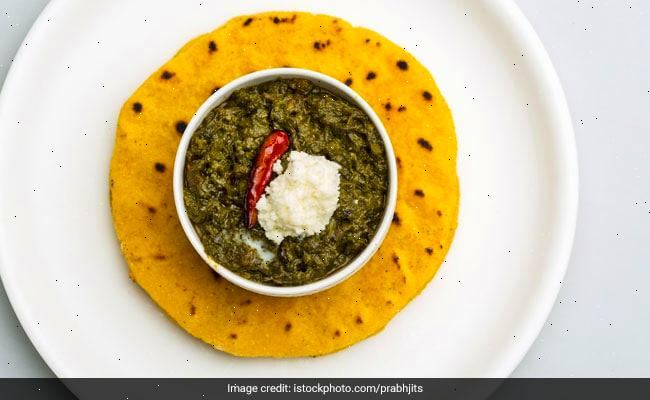saag: (186, 92, 382, 287)
